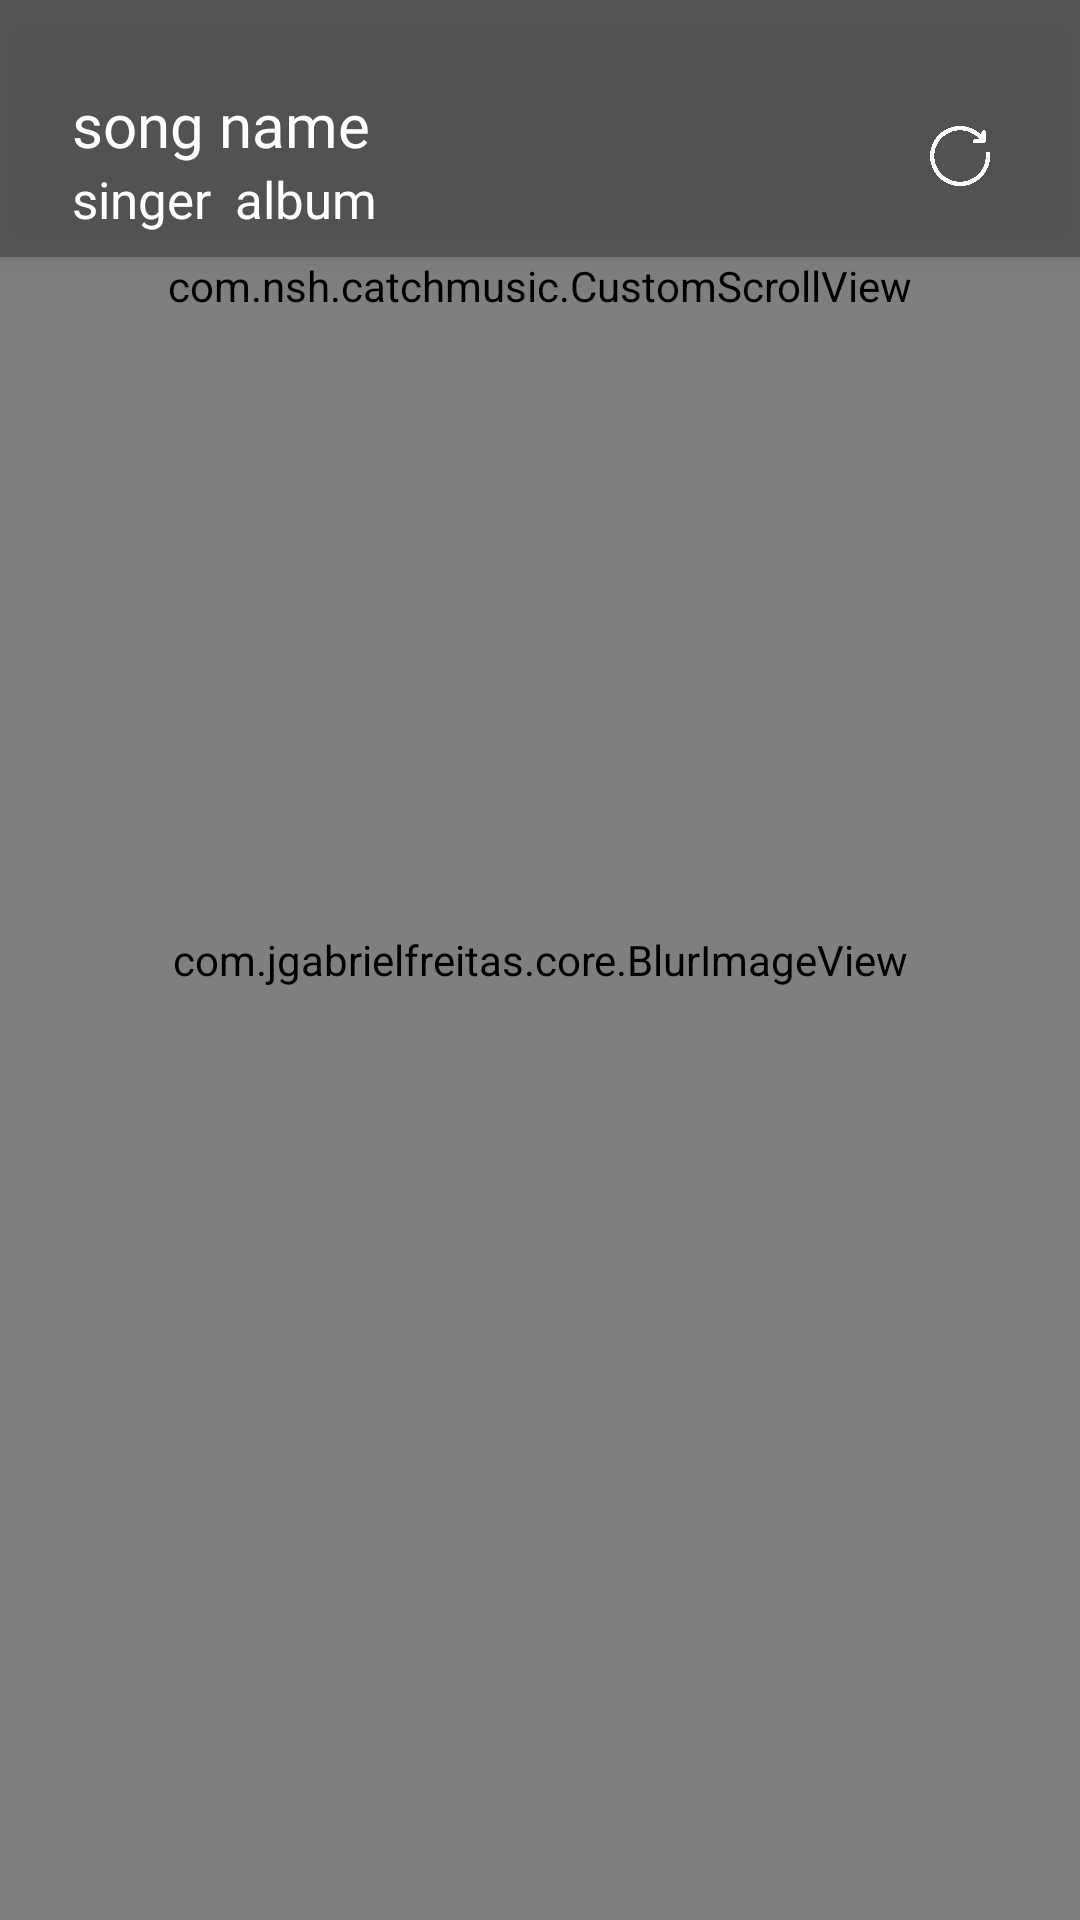

Icons on this 1080px x 1920px Android screen, each with its box as [left=x1, top=y1, right=x2, bottom=y2]:
again: [left=930, top=126, right=990, bottom=186]
